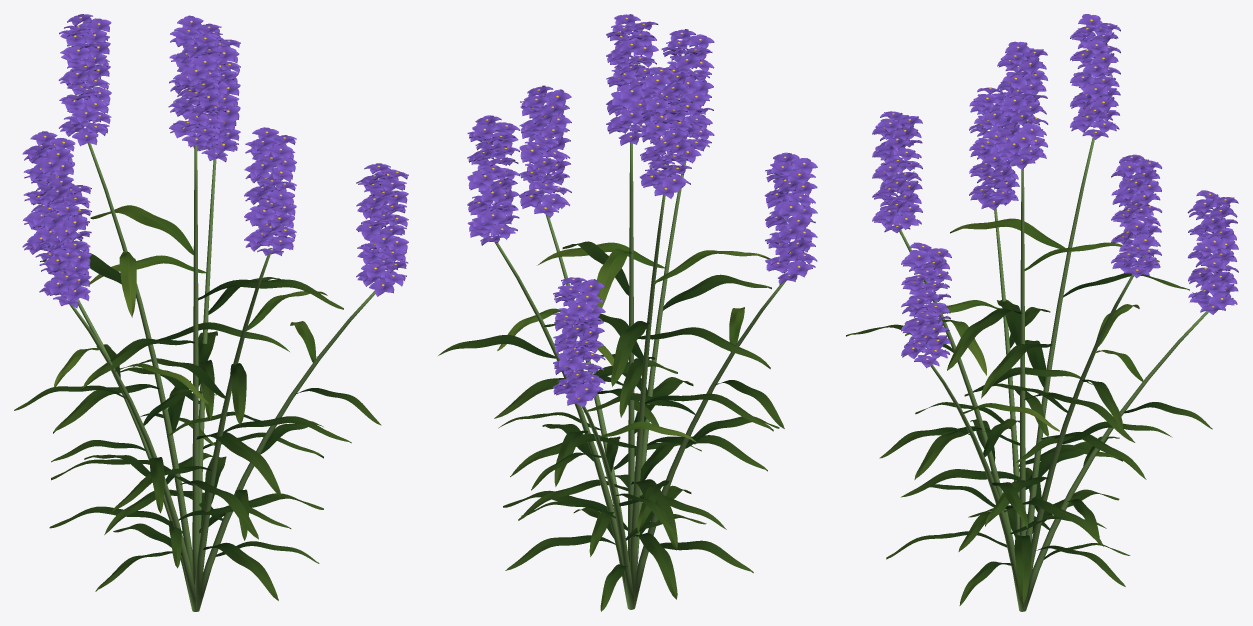
File: lavender-10.glb
3 views of the same model, side by side, from view 1: azimuth 30°, elevation 25°; view 2: azimuth 150°, elevation 25°; view 3: azimuth 270°, elevation 25° (orthographic). The views are drawn at different scales.
Visible parts, largest first — view 1: lavender_stage_10_lavender_petal.018, lavender_stage_10_leaf_veins.018, lavender_stage_10_stem_fibres.018, lavender_stage_10_young_leaf.018, lavender_stage_10_pollen_granules.018; view 2: lavender_stage_10_lavender_petal.018, lavender_stage_10_leaf_veins.018, lavender_stage_10_stem_fibres.018, lavender_stage_10_young_leaf.018, lavender_stage_10_pollen_granules.018; view 3: lavender_stage_10_lavender_petal.018, lavender_stage_10_leaf_veins.018, lavender_stage_10_stem_fibres.018, lavender_stage_10_young_leaf.018, lavender_stage_10_pollen_granules.018.
Part boxes in pixels (x1,y1,x2,y2): lavender_stage_10_lavender_petal.018: (22,14,408,308); lavender_stage_10_leaf_veins.018: (14,251,381,600); lavender_stage_10_stem_fibres.018: (69,142,375,611); lavender_stage_10_young_leaf.018: (54,205,327,404); lavender_stage_10_pollen_granules.018: (37,17,398,300); lavender_stage_10_lavender_petal.018: (467,14,817,407); lavender_stage_10_leaf_veins.018: (438,241,784,611); lavender_stage_10_stem_fibres.018: (495,143,786,609); lavender_stage_10_young_leaf.018: (497,242,769,442); lavender_stage_10_pollen_granules.018: (477,17,805,398); lavender_stage_10_lavender_petal.018: (872,14,1238,368); lavender_stage_10_leaf_veins.018: (846,273,1212,605); lavender_stage_10_stem_fibres.018: (899,138,1208,611); lavender_stage_10_young_leaf.018: (905,218,1159,431); lavender_stage_10_pollen_granules.018: (883,19,1227,360).
Size of the model in its own units: 0.4041 by 0.6888 by 0.438.
Materials: 5 (3 with a texture image).
